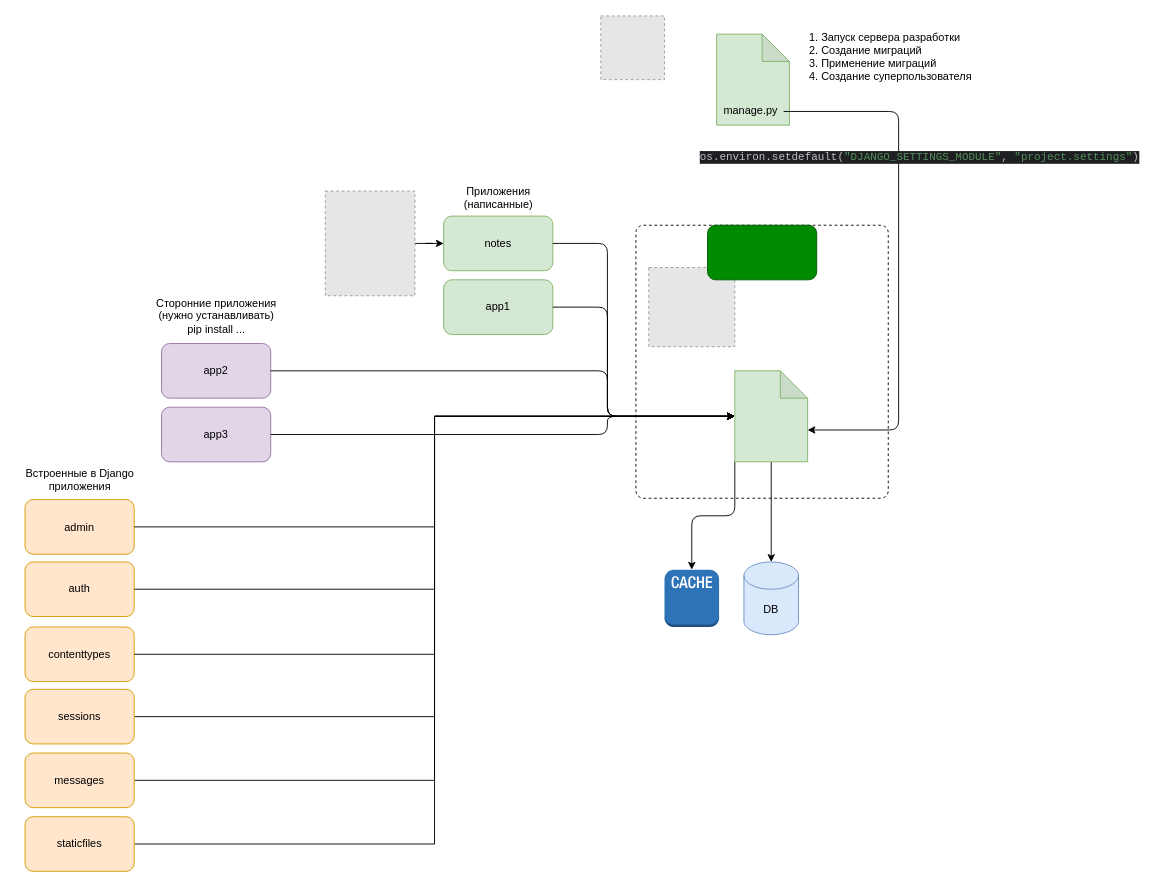
This 1155x887 diagram has some shape labels left out. Grey dashed boxes stand in for pictures. The shapes that lost their labels are listed below. From the top down, each one's centre as x and y in pixels, then its label:
At pixel 762 252: "project".
At pixel 771 416: "settings.py".
